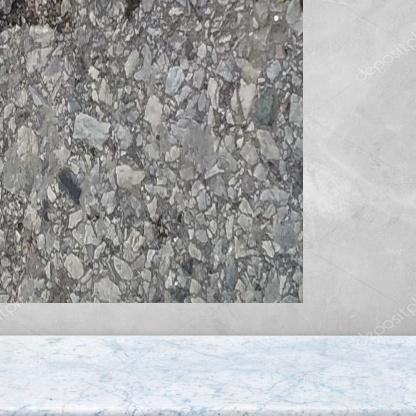Cracks: (0, 0, 75, 39), (101, 0, 155, 20), (234, 0, 280, 12)
